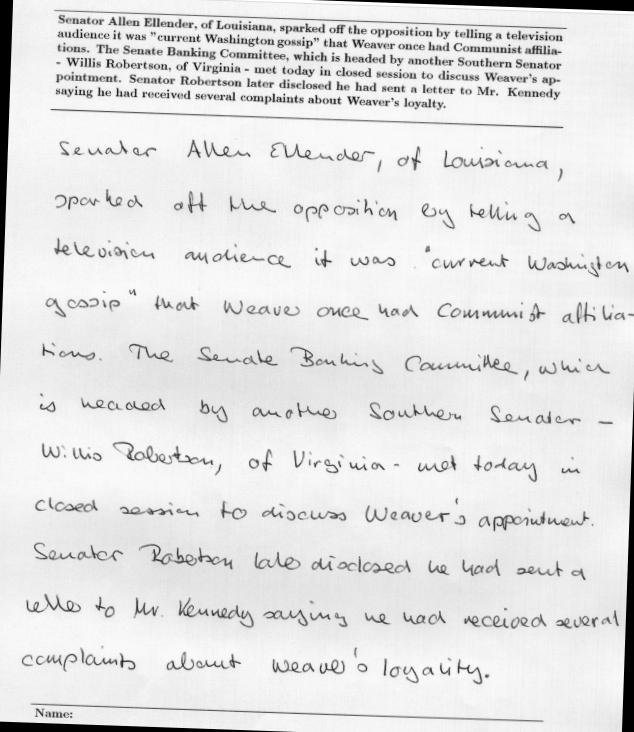text: (39, 276, 634, 341), (18, 584, 624, 646), (30, 480, 597, 540), (48, 228, 632, 284), (34, 386, 616, 441), (35, 435, 583, 492), (55, 128, 568, 187), (36, 334, 616, 386), (27, 534, 590, 586), (50, 182, 580, 237), (18, 631, 495, 689), (52, 68, 562, 104), (53, 25, 562, 60), (53, 40, 563, 74), (52, 54, 562, 88), (56, 11, 564, 45), (50, 83, 447, 113), (31, 705, 74, 723)
